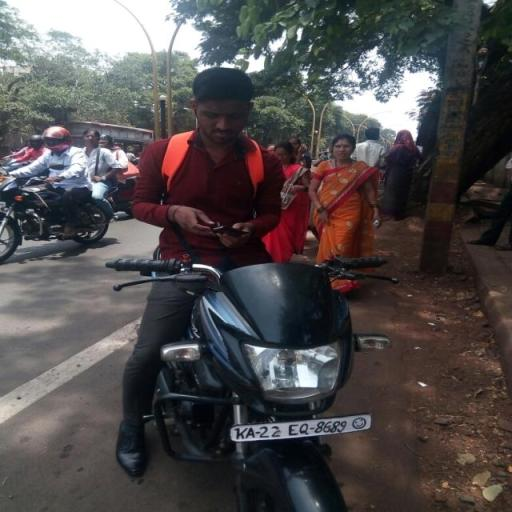bike: (84, 52, 408, 512)
numberplate: (226, 407, 378, 446)
using mobile: (206, 218, 246, 242)
withouthelmet: (195, 67, 257, 141)
